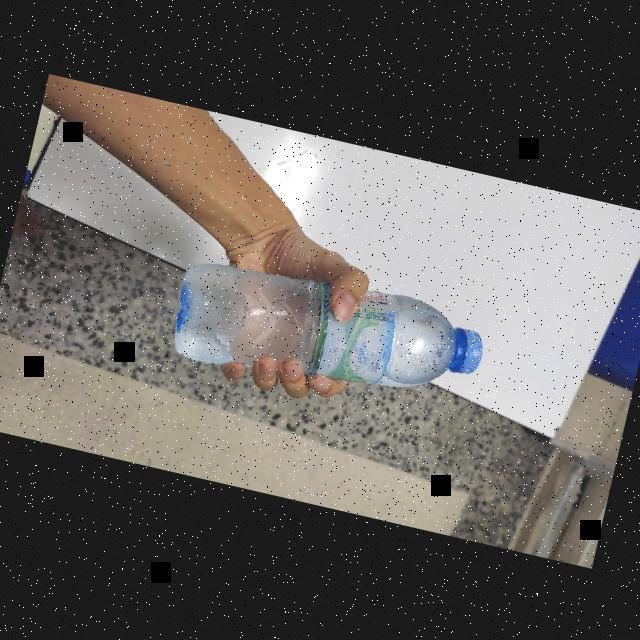plastic_bottle: (161, 240, 495, 430)
plastic_bottle_cap: (442, 322, 488, 378)
